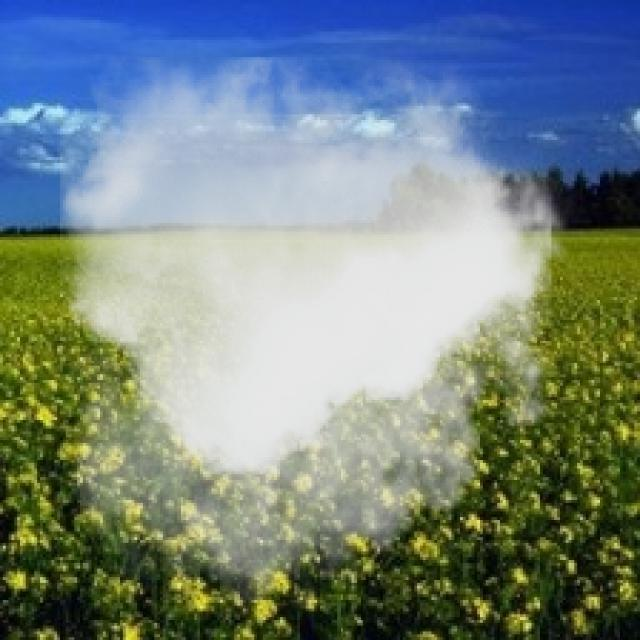Smoke: (60, 57, 583, 623)
